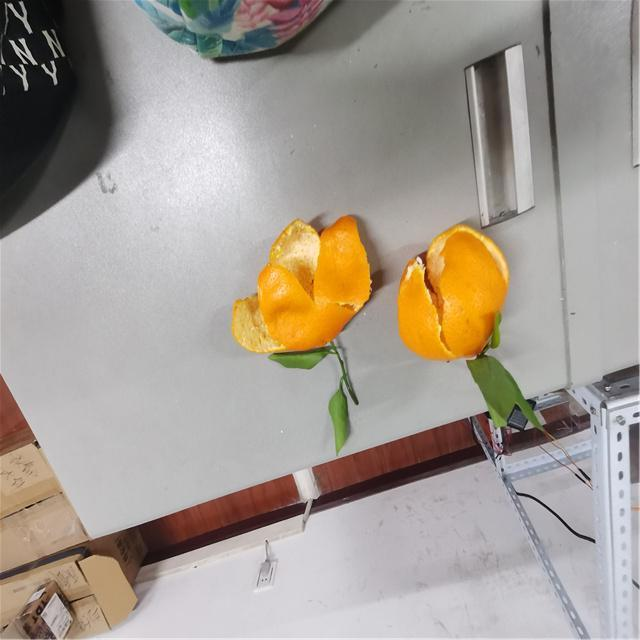orange peel: (232, 212, 376, 352), (396, 222, 508, 366)
